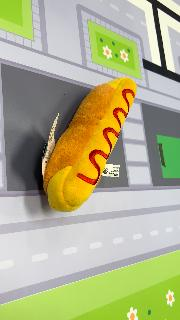hotdog: (43, 77, 137, 213)
